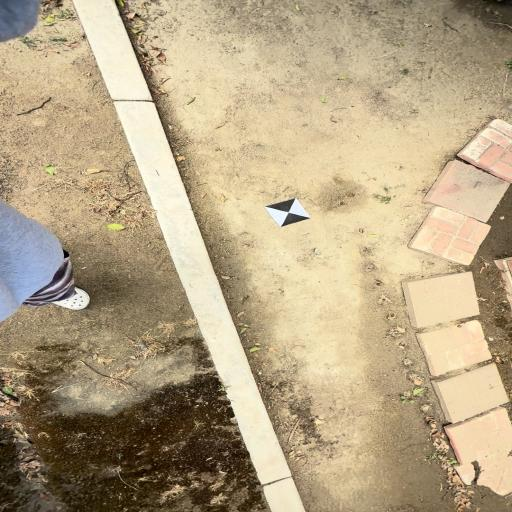target: (265, 199, 310, 227)
